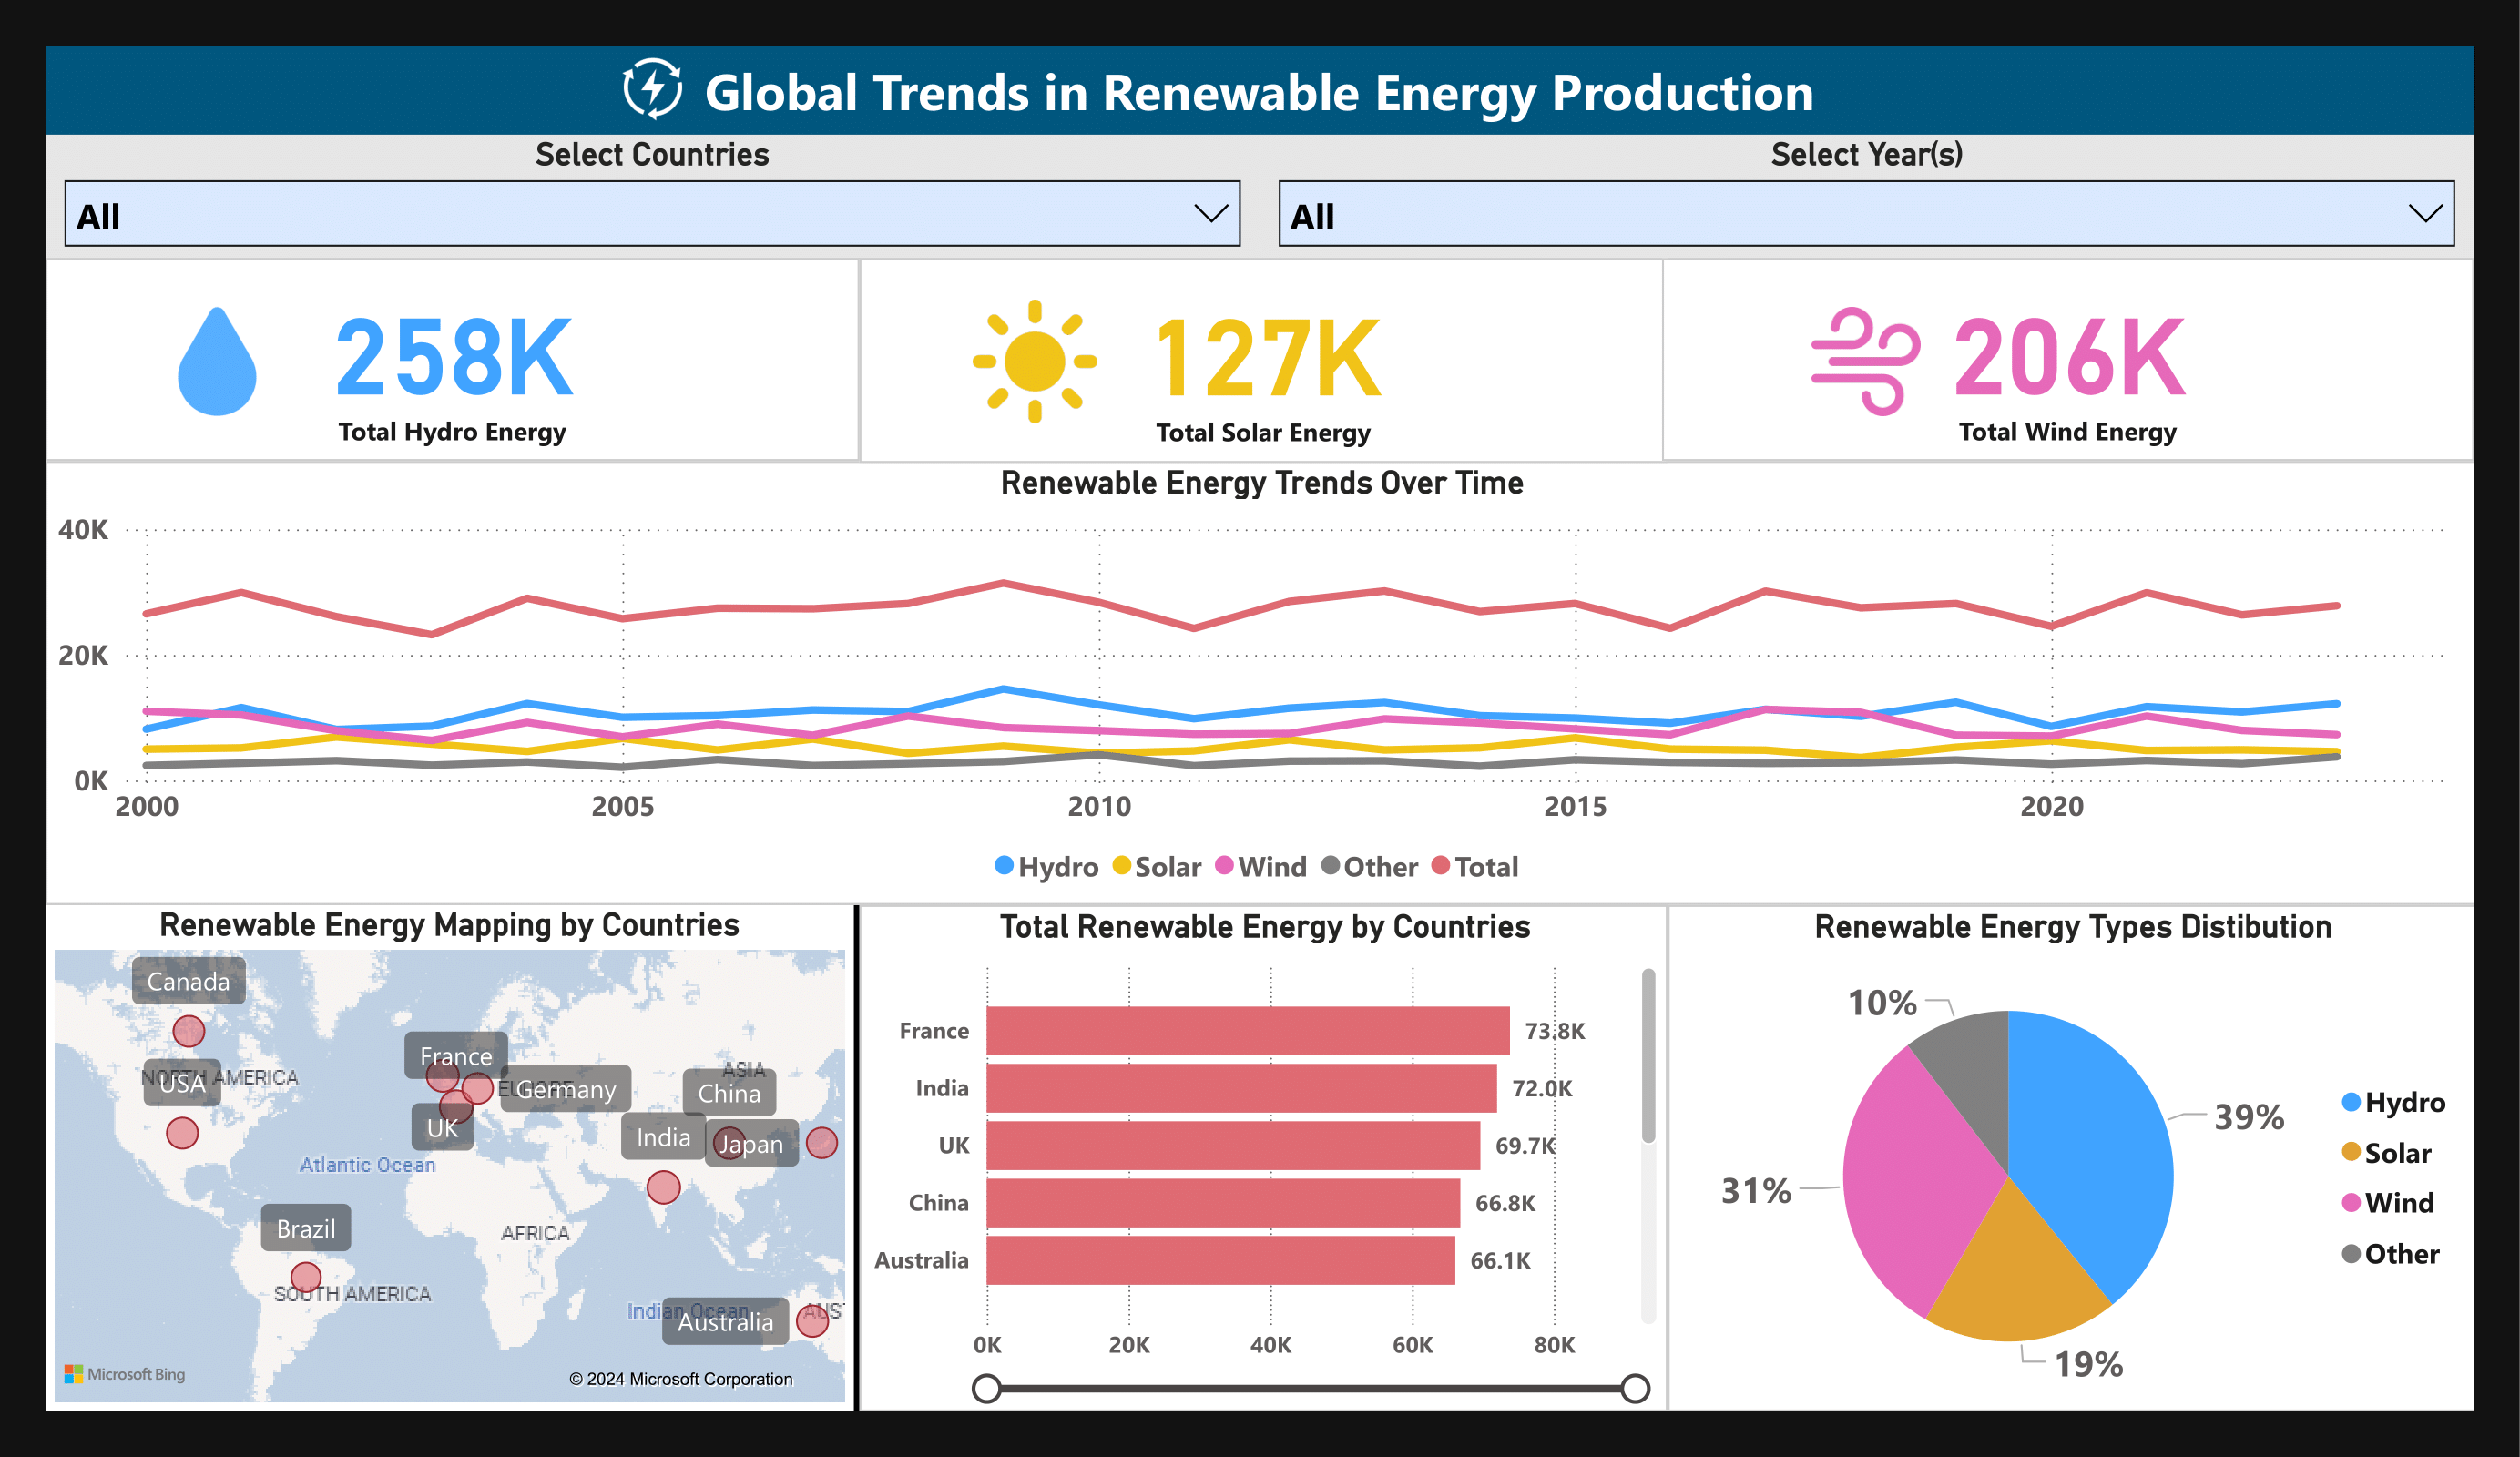

Layout of this report page (visuals, bound fields, positions):
{"tool":"powerbi","page":{"name":"Global Trends in Renewable Energy Production","canvas":[1280,720],"ordinal":1},"visuals":[{"type":"textbox","box":[0,0,1280,46.7],"z":0},{"type":"map","title":"Renewable Energy Mapping by Countries","fields":{"Category":["global_renewable_energy_production.Country"],"Size":["Sum(global_renewable_energy_production.TotalRenewableEnergy)"]},"box":[0,453,426.4,267],"z":1000},{"type":"clusteredBarChart","title":"Total Renewable Energy by Countries","fields":{"Category":["global_renewable_energy_production.Country"],"Y":["Sum(global_renewable_energy_production.TotalRenewableEnergy)"]},"box":[429.1,453,426.4,267],"z":2000},{"type":"lineChart","title":"Renewable Energy Trends Over Time","fields":{"Category":["global_renewable_energy_production.Year"],"Y":["Sum(global_renewable_energy_production.HydroEnergy)","Sum(global_renewable_energy_production.SolarEnergy)","Sum(global_renewable_energy_production.WindEnergy)","Sum(global_renewable_energy_production.OtherRenewableEnergy)","Sum(global_renewable_energy_production.TotalRenewableEnergy)"]},"box":[0,219.2,1280.6,233.8],"z":3000},{"type":"pieChart","title":"Renewable Energy Types Distibution","fields":{"Y":["global_renewable_energy_production.HydroEnergyPercentage","global_renewable_energy_production.SolarEnergyPercentage","global_renewable_energy_production.WindEnergyPercentage","global_renewable_energy_production.OtherEnergyPercentage"]},"box":[855.5,453,425.1,267],"z":4000},{"type":"card","fields":{"Values":["Sum(global_renewable_energy_production.HydroEnergy)"]},"box":[0,111.6,429.1,107.6],"z":5000},{"type":"card","fields":{"Values":["Sum(global_renewable_energy_production.SolarEnergy)"]},"box":[429.2,111.5,426.2,108.5],"z":6000},{"type":"card","fields":{"Values":["Sum(global_renewable_energy_production.WindEnergy)"]},"box":[851.5,111.5,428.5,107.7],"z":7000},{"type":"slicer","title":"Select Countries","fields":{"Values":["global_renewable_energy_production.Country"]},"box":[0,46.7,640,65],"z":8000},{"type":"slicer","title":"Select Year(s)","fields":{"Values":["global_renewable_energy_production.Year"]},"box":[640,46.7,640,65],"z":9000},{"type":"image","box":[926.2,128.8,66.2,75],"z":10000},{"type":"image","box":[483.8,128.8,75,75],"z":11000},{"type":"image","box":[52.2,128.9,75.6,75.6],"z":12000},{"type":"image","box":[294.5,0,50,46.4],"z":13000}]}

Visuals, with their boxes on the page's 1280x720 design canvas (x1, y1, x2, y2). These are canvas units, not pixel positions in the 2520x1457 screenshot, which may show the page scaled, cropped or inside an application window:
textbox: (left=0, top=0, right=1280, bottom=47)
"Renewable Energy Mapping by Countries" map: (left=0, top=453, right=426, bottom=720)
"Total Renewable Energy by Countries" clusteredBarChart: (left=429, top=453, right=856, bottom=720)
"Renewable Energy Trends Over Time" lineChart: (left=0, top=219, right=1281, bottom=453)
"Renewable Energy Types Distibution" pieChart: (left=856, top=453, right=1281, bottom=720)
card - Sum(global_renewable_energy_production.HydroEnergy): (left=0, top=112, right=429, bottom=219)
card - Sum(global_renewable_energy_production.SolarEnergy): (left=429, top=112, right=855, bottom=220)
card - Sum(global_renewable_energy_production.WindEnergy): (left=852, top=112, right=1280, bottom=219)
"Select Countries" slicer: (left=0, top=47, right=640, bottom=112)
"Select Year(s)" slicer: (left=640, top=47, right=1280, bottom=112)
image: (left=926, top=129, right=992, bottom=204)
image: (left=484, top=129, right=559, bottom=204)
image: (left=52, top=129, right=128, bottom=204)
image: (left=294, top=0, right=344, bottom=46)
